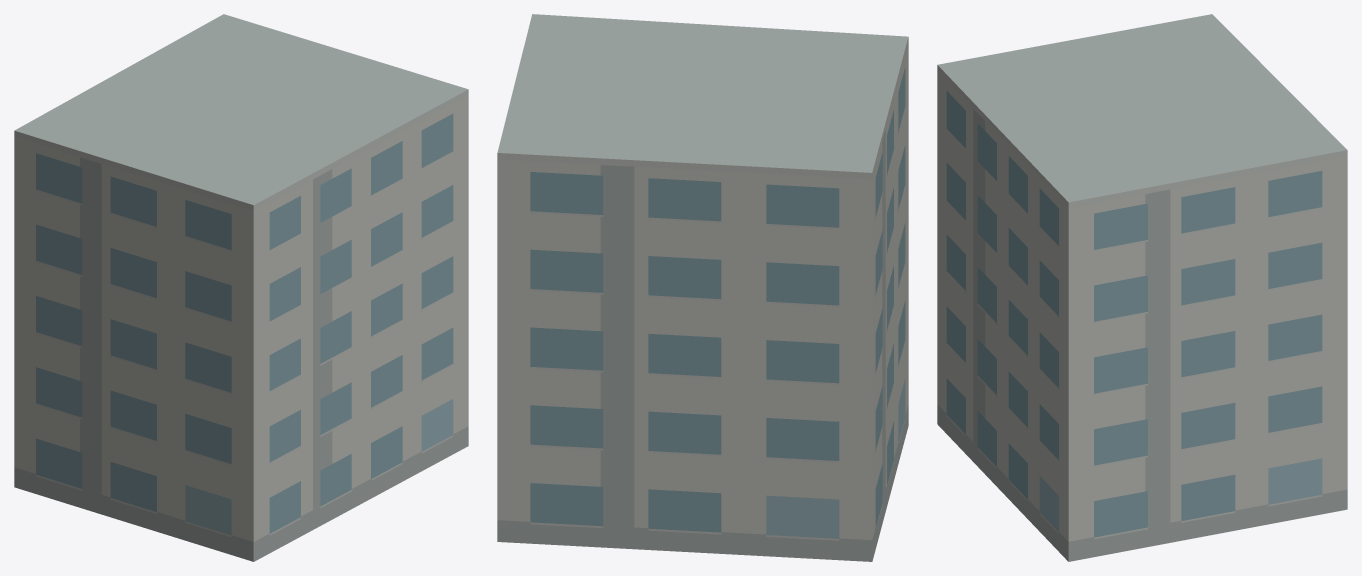
File: survey-upis-32858383.glb
The picture shows the model from 3 angles, left to right: view 1: azimuth 30°, elevation 25°; view 2: azimuth 150°, elevation 25°; view 3: azimuth 270°, elevation 25°; orthographic projection. The views are drawn at different scales.
Visible parts, largest first — view 1: survey-upis-32858383.tmp; view 2: survey-upis-32858383.tmp; view 3: survey-upis-32858383.tmp.
Boxes of the visible parts, box(x1,y1,x2,y2) form: survey-upis-32858383.tmp: box(14, 14, 468, 561); survey-upis-32858383.tmp: box(497, 14, 908, 561); survey-upis-32858383.tmp: box(937, 14, 1347, 561).
Size of the model in its own units: 16.2 by 14.4 by 14.9.
